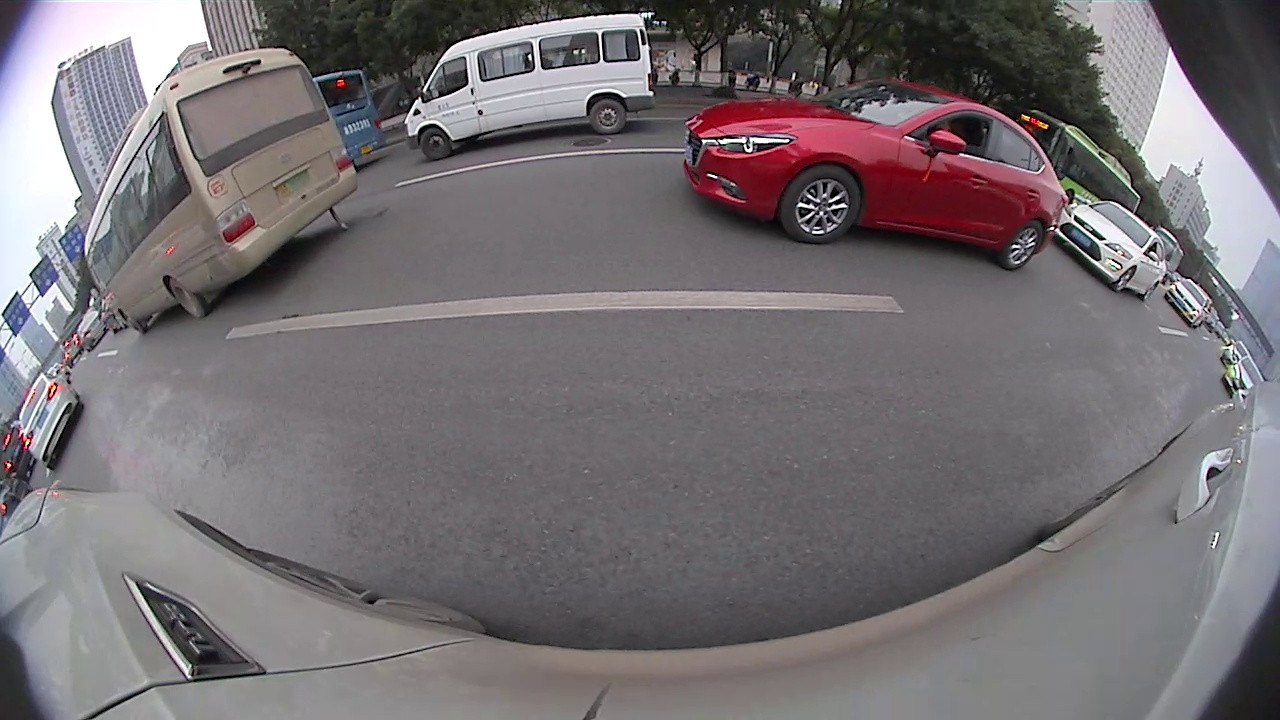bus: (87, 49, 359, 334), (1013, 111, 1142, 217), (309, 69, 387, 169)
car: (684, 81, 1068, 270), (403, 14, 652, 160), (1055, 202, 1167, 301), (16, 370, 79, 470), (1166, 282, 1206, 329)
front: (781, 168, 861, 245), (420, 128, 449, 157), (121, 309, 146, 332), (1114, 266, 1136, 291)
rear: (1002, 226, 1048, 270), (166, 278, 205, 317), (591, 100, 626, 130), (1141, 283, 1158, 300)
